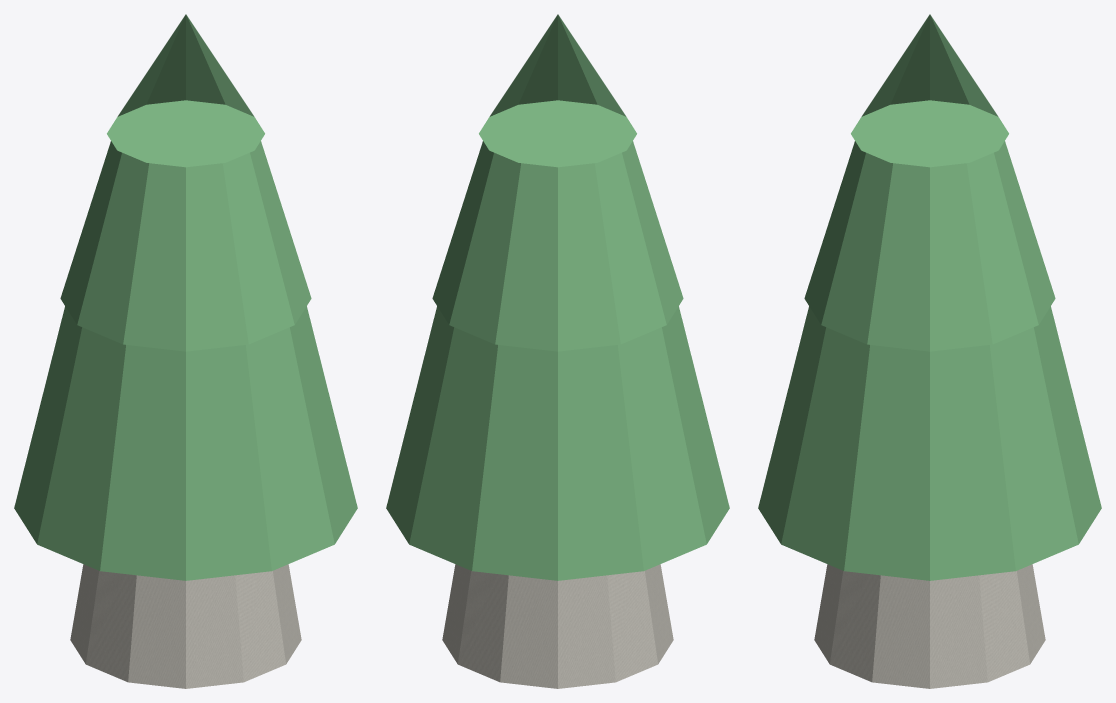
File: theme-park-rides-and-coasters-theme-park-rides-and-coa-28f04267__28699.glb
3 renders of one model, left to right at view 1: azimuth 30°, elevation 25°; view 2: azimuth 150°, elevation 25°; view 3: azimuth 270°, elevation 25°, orthographic.
Visible parts, largest first — view 1: theme-park-rides-and-coasters-topiary-cone; view 2: theme-park-rides-and-coasters-topiary-cone; view 3: theme-park-rides-and-coasters-topiary-cone.
Part boxes in pixels (x1,y1,x2,y2): theme-park-rides-and-coasters-topiary-cone: (14,14,357,688); theme-park-rides-and-coasters-topiary-cone: (386,14,729,688); theme-park-rides-and-coasters-topiary-cone: (758,14,1101,688).
Size of the model in its own units: 1.04 by 2.09 by 1.04.
Materials: 4 (1 with a texture image).
